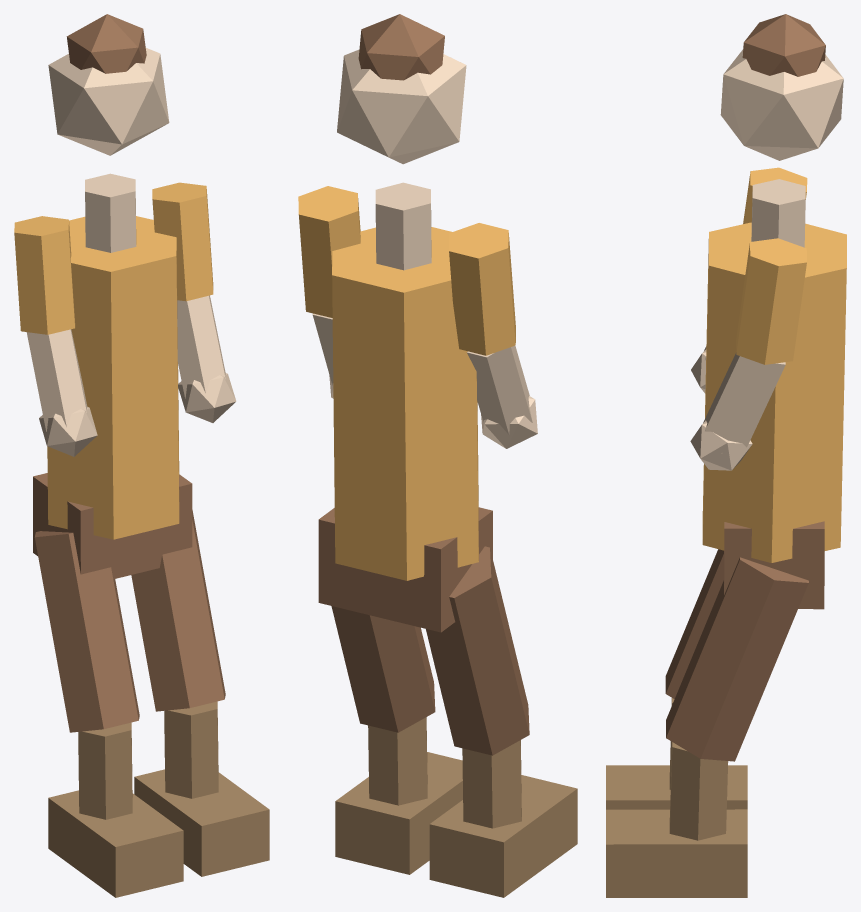
File: pose_hit_light_21.glb
3 renders of one model, left to right at view 1: azimuth 30°, elevation 25°; view 2: azimuth 150°, elevation 25°; view 3: azimuth 270°, elevation 25°, orthographic. The views are drawn at different scales.
Visible parts, largest first — view 1: pose; view 2: pose; view 3: pose.
Part boxes in pixels (bbox=[...]): pose: bbox=[14, 14, 269, 897]; pose: bbox=[298, 14, 577, 897]; pose: bbox=[606, 14, 846, 897].
Size of the model in its own units: 0.3958 by 1.58 by 0.4082.
